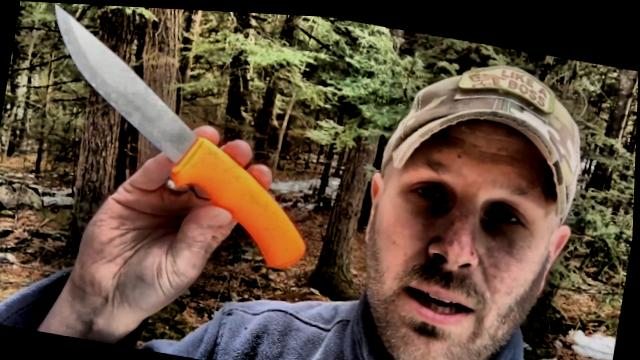knife: (20, 1, 240, 204)
